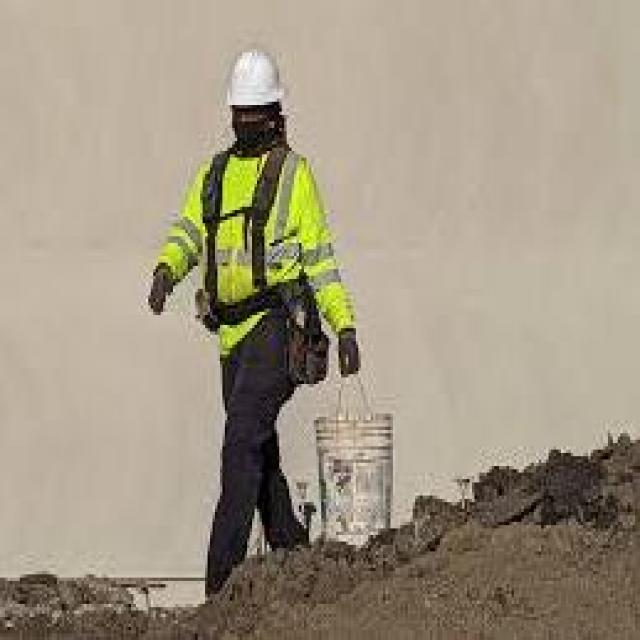Reflective-Jacket: (153, 141, 366, 374)
Safety-Helmet: (212, 36, 296, 128)
